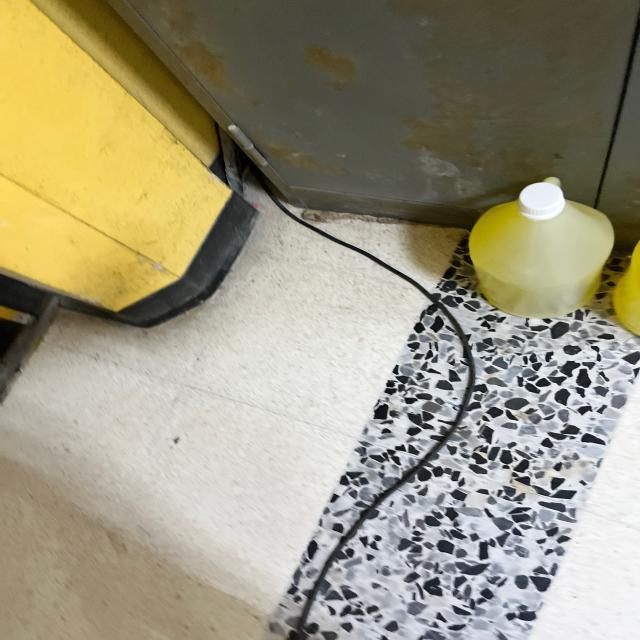HDPE Plastic: (461, 173, 622, 323)
